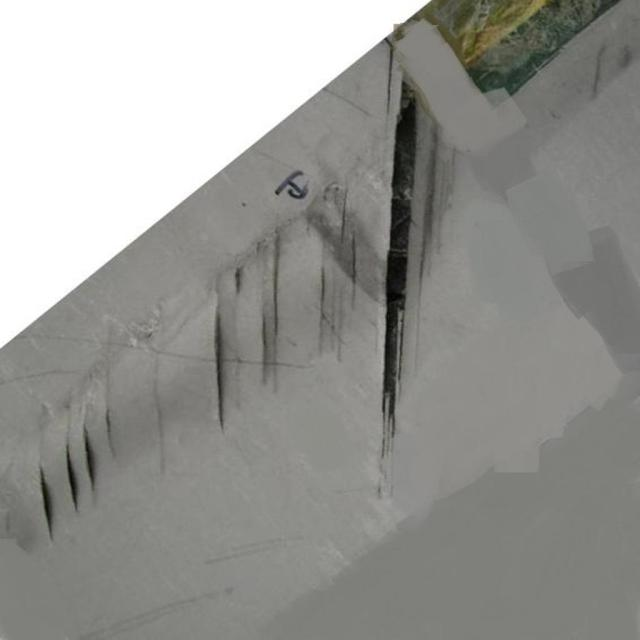crack: (210, 212, 358, 426), (371, 69, 439, 441), (38, 412, 105, 542)
surface_peeling: (433, 0, 626, 100)
